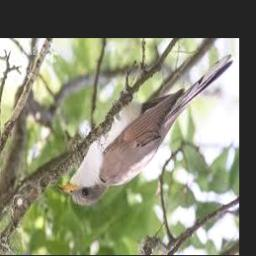Cuckoo: (55, 54, 233, 204)
